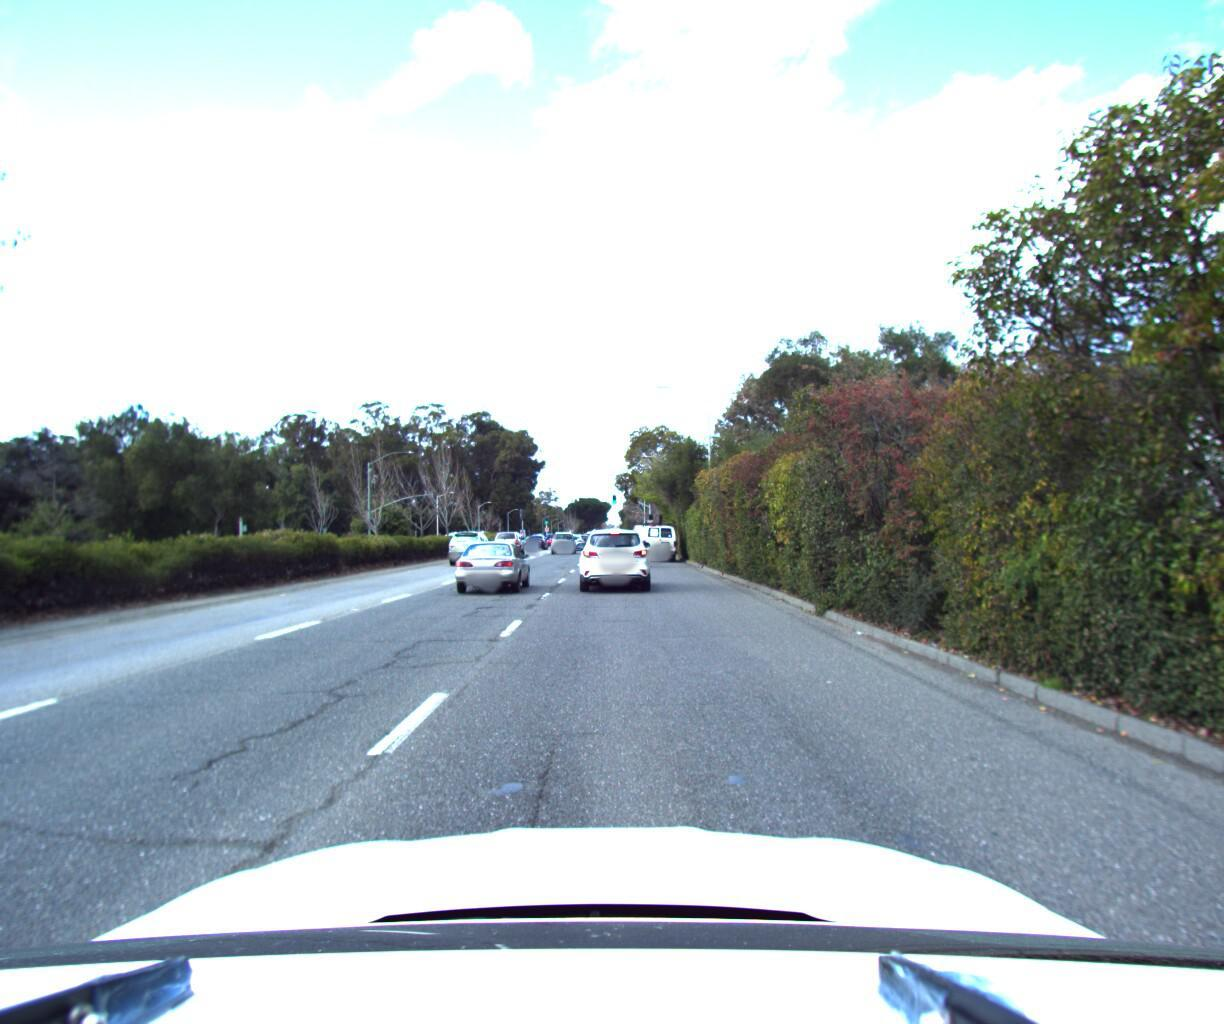car: (576, 526, 656, 600), (451, 540, 538, 600), (639, 521, 685, 565), (449, 533, 500, 571), (628, 523, 661, 560), (495, 534, 531, 561), (551, 534, 582, 559), (528, 540, 551, 558)
